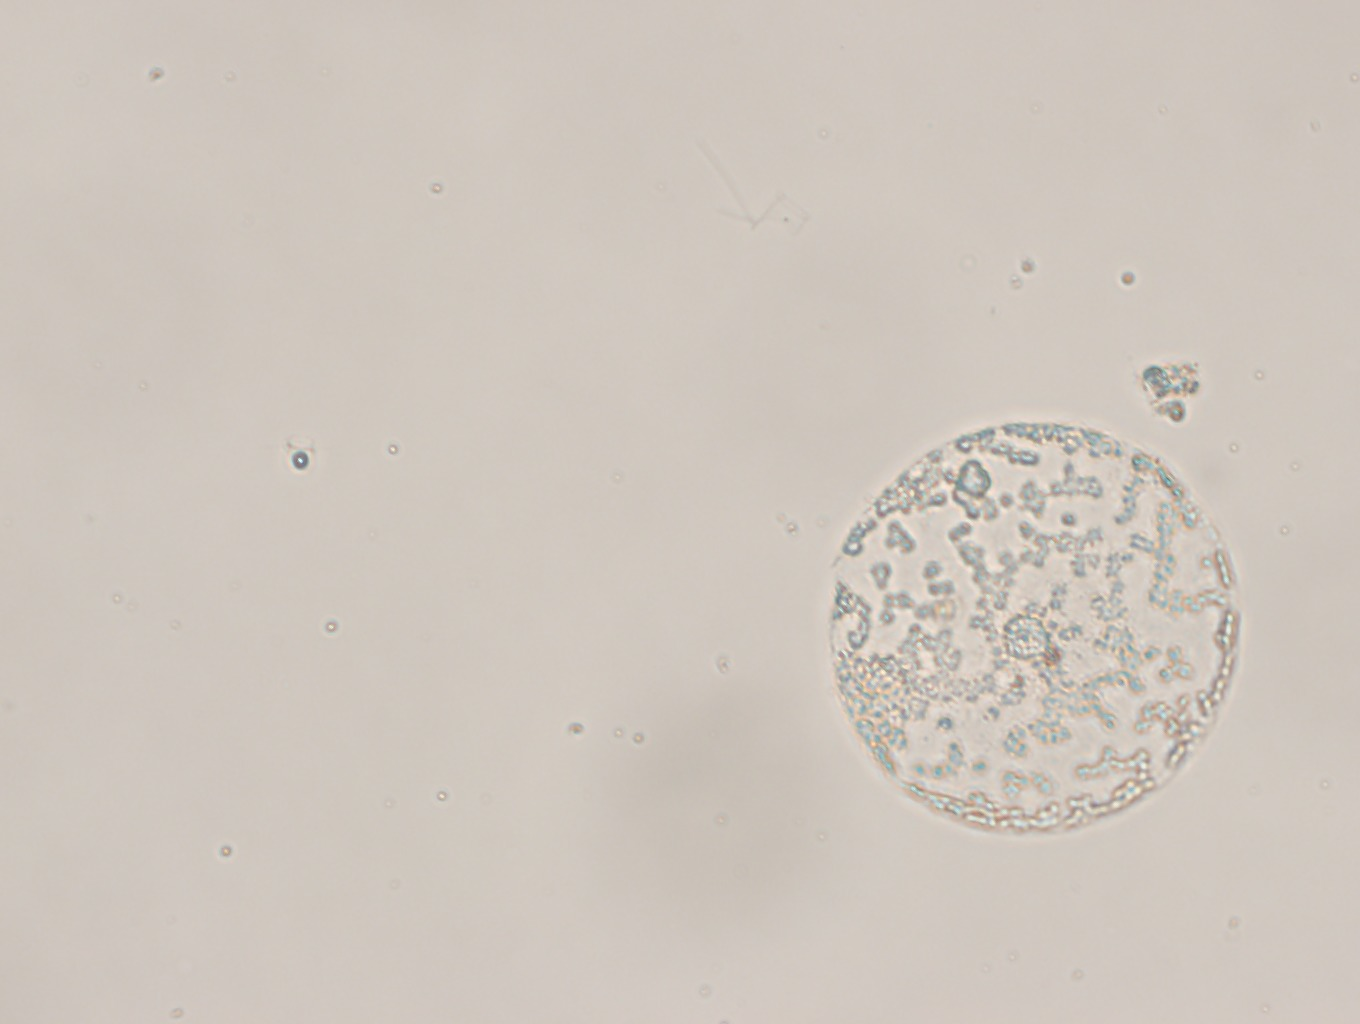coscinodiscus: (815, 414, 1248, 839)
